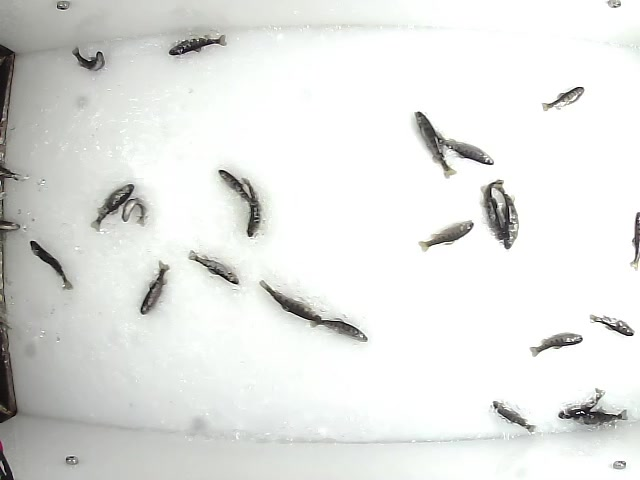fish: (414, 109, 457, 181), (258, 277, 319, 321), (28, 239, 76, 293), (90, 180, 136, 233), (186, 250, 243, 287), (487, 395, 538, 432), (431, 132, 492, 162), (216, 167, 258, 209), (164, 31, 229, 58), (138, 260, 171, 313), (556, 387, 607, 420), (572, 404, 630, 431), (239, 175, 262, 238), (313, 317, 372, 341), (539, 85, 589, 113), (69, 44, 107, 75), (531, 333, 584, 355), (585, 313, 637, 334), (120, 195, 150, 230)
